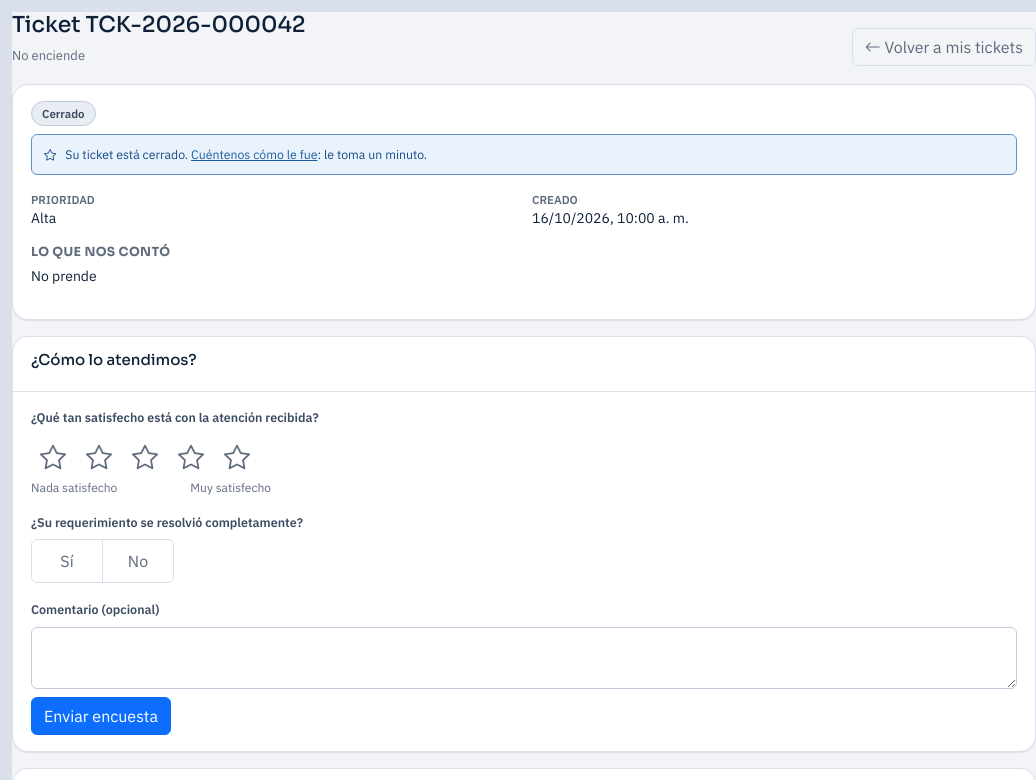
Test: Soporte TI: la ficha de un ticket propio › la encuesta usa radios nativos con nombre de grupo y explica el botón
Click the button "Enviar encuesta" at {"x": 101, "y": 716}, box x1=31 y1=697 x2=171 y2=735
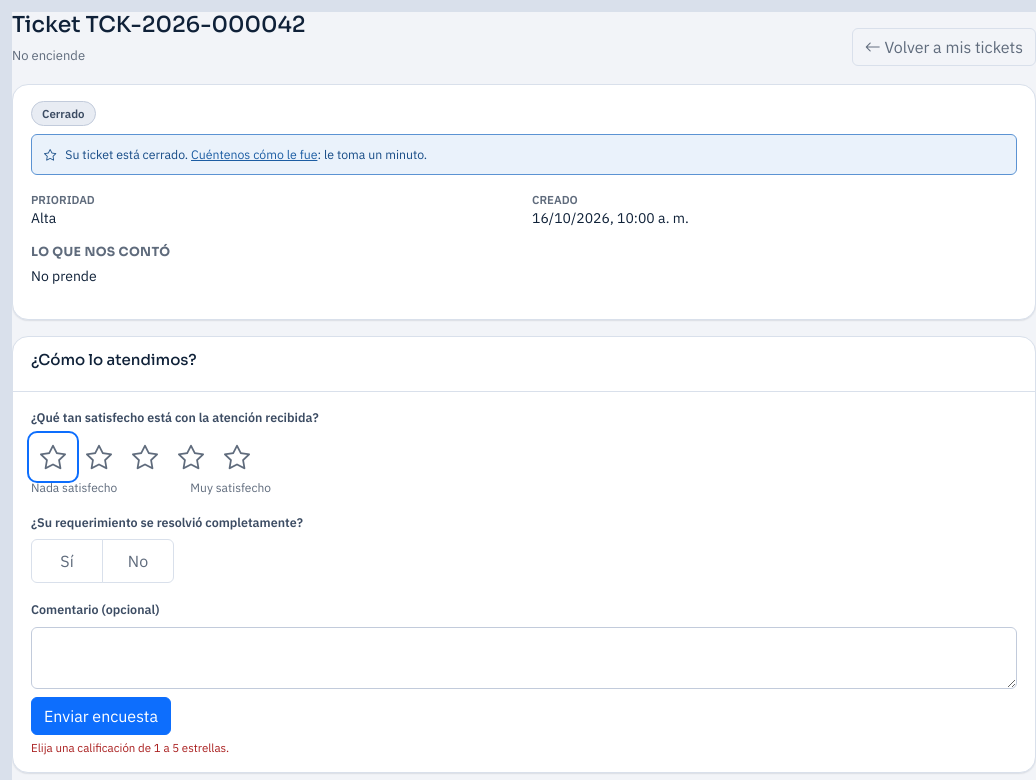
Check: the message reads "Elija una calificación de 1 a 5 estrellas.", box x1=31 y1=740 x2=229 y2=755
Click the radio button named "4 de 5" at {"x": 191, "y": 457}, box x1=169 y1=435 x2=213 y2=479
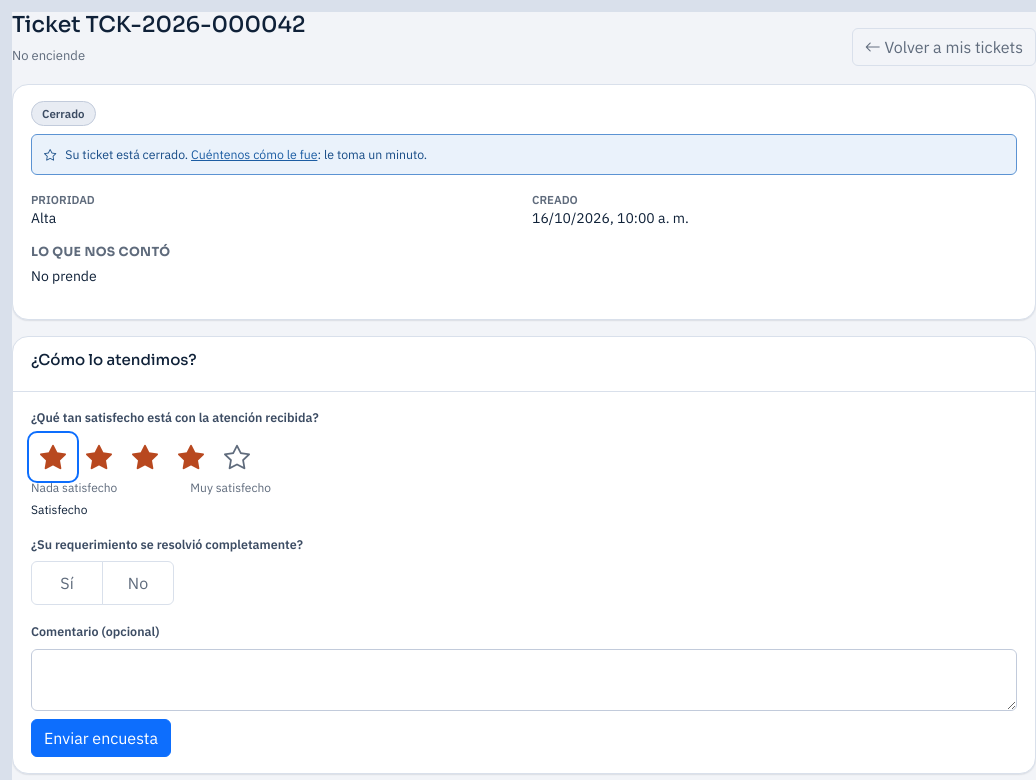
Check: the radio button named "4 de 5: Satisfecho" is checked, box x1=169 y1=435 x2=213 y2=479
Click the button "Enviar encuesta" at {"x": 101, "y": 738}, box x1=31 y1=719 x2=171 y2=757
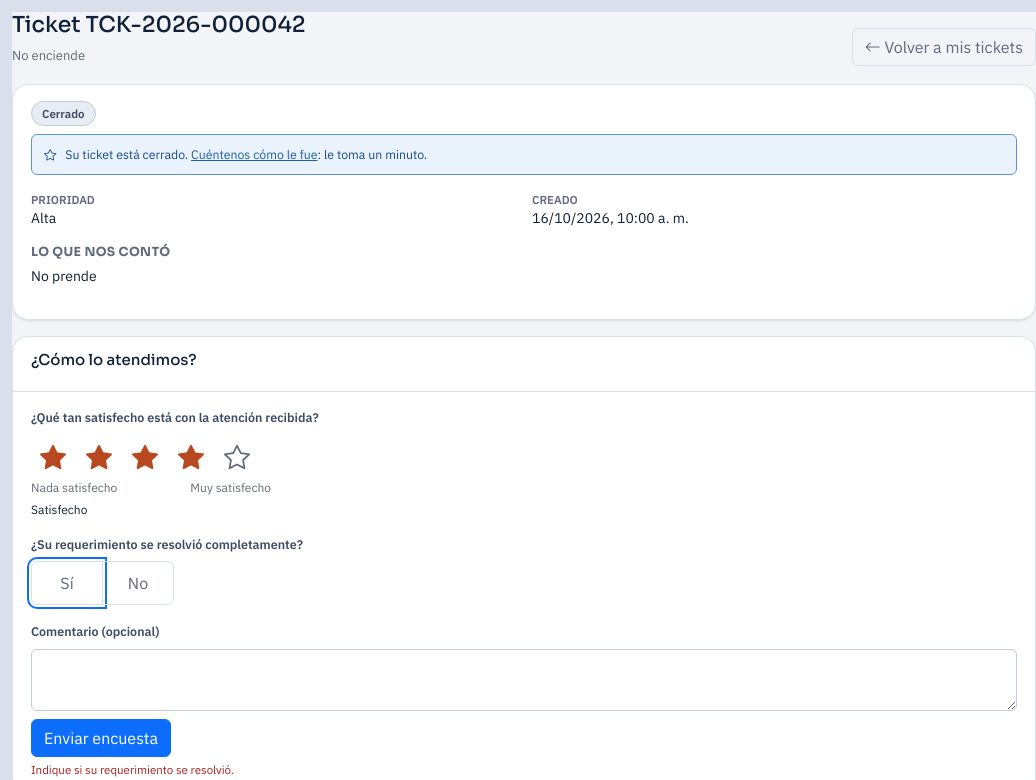
Check: the message reads "Indique si su requerimiento se resolvió.", box x1=31 y1=762 x2=234 y2=777
Click the 6th radio button labelled "Sí" at {"x": 67, "y": 583}, box x1=31 y1=561 x2=103 y2=605
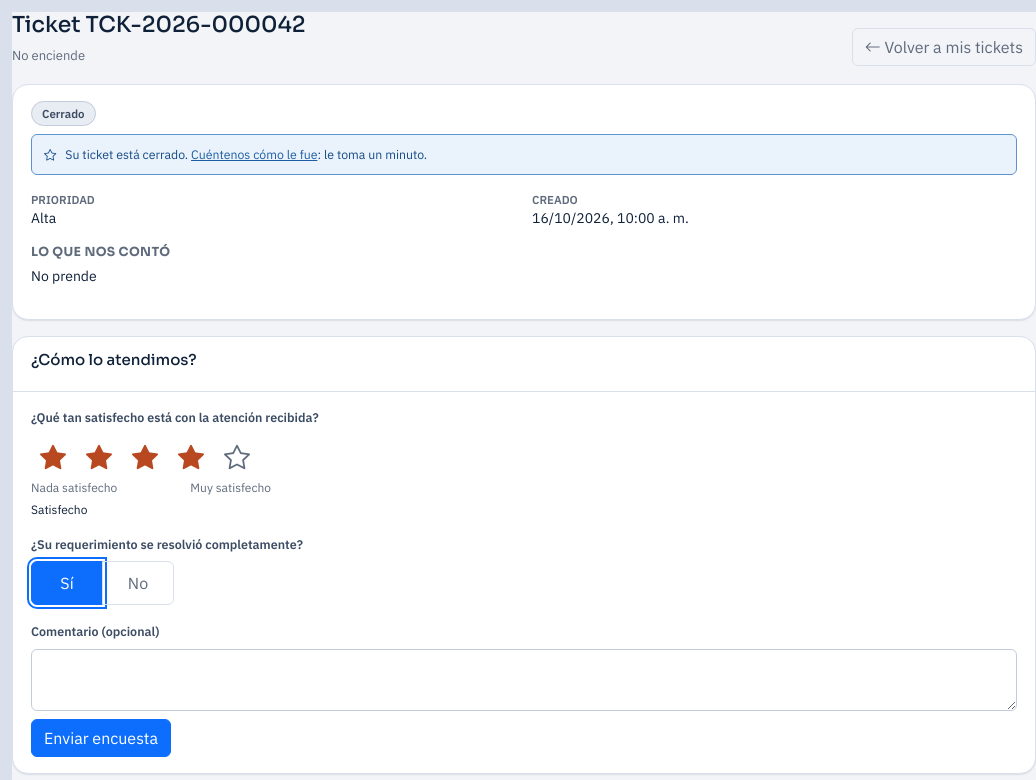
Check: the message "Indique si su requerimiento se resolvió." is gone
